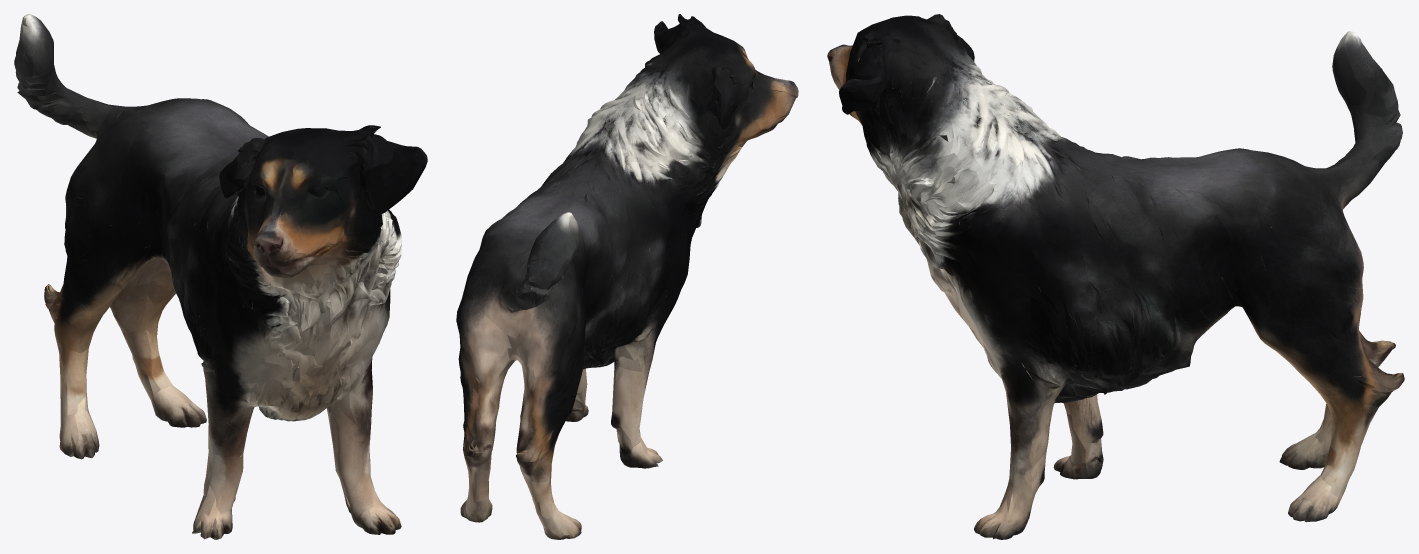
Rendered from zero.glb.
The picture shows the model from 3 angles, left to right: view 1: azimuth 30°, elevation 25°; view 2: azimuth 150°, elevation 25°; view 3: azimuth 270°, elevation 25°; orthographic projection. The views are drawn at different scales.
Size of the model in its own units: 0.849 by 1.66 by 1.9.
1 material, 1 textured.
